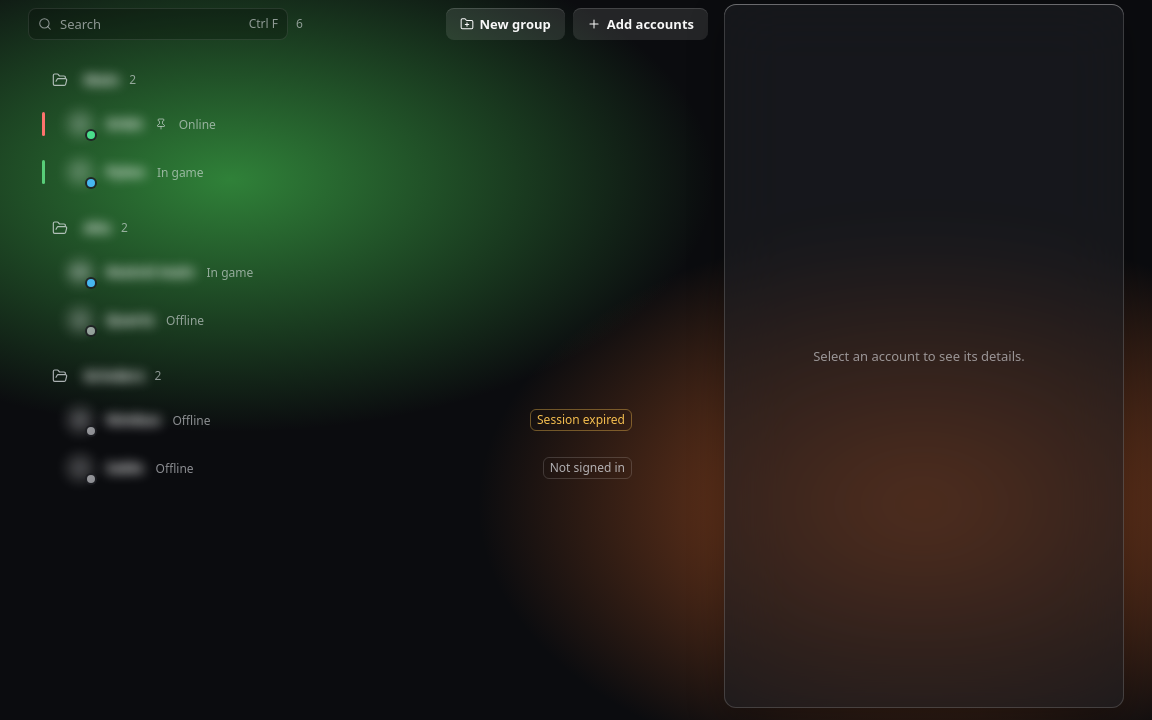
arrows select, Delete removes with an undo toast, Undo restores
The width and height of the screenshot is (1152, 720).
Press Arrowdown
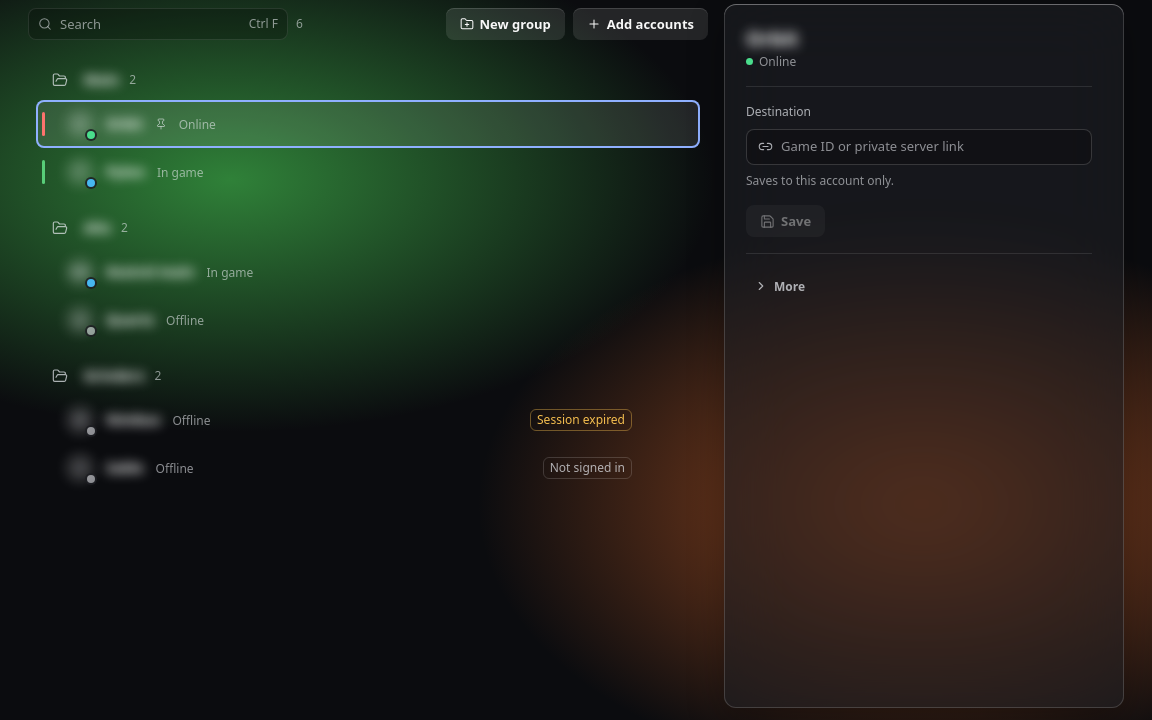
Expected: the text "Orbit" is selected, [36,100,700,148]
Press Arrowdown
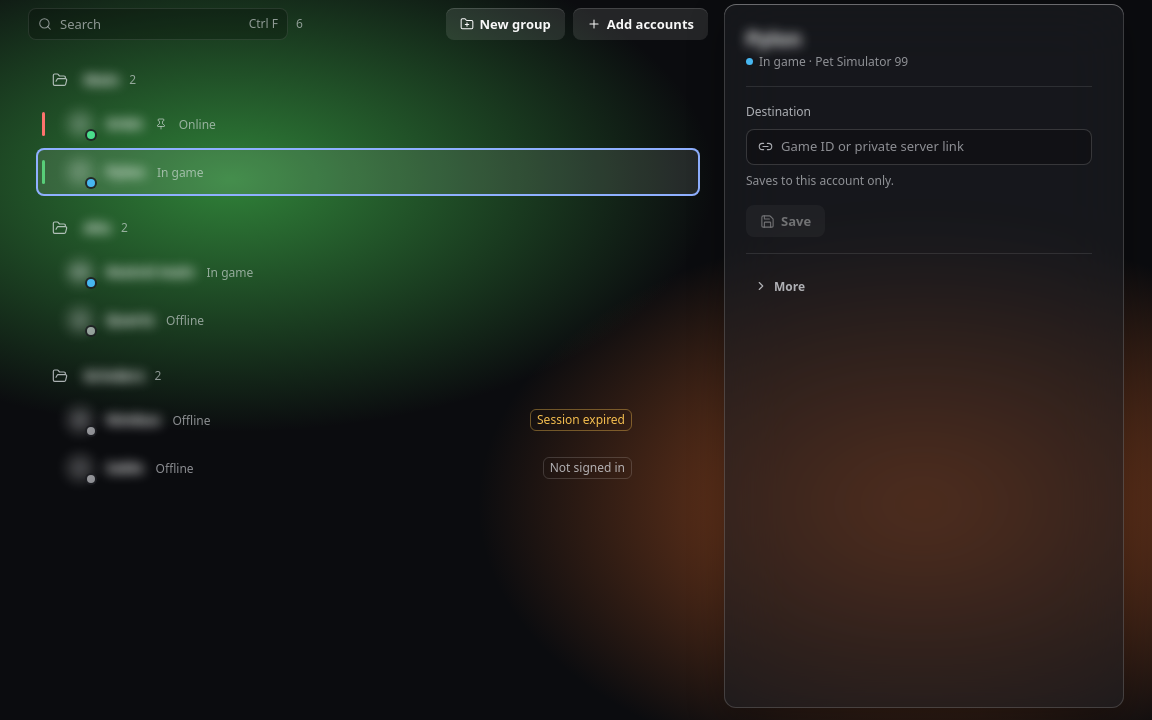
Expected: the text "Pylon" is selected, [36,148,700,196]
Press Delete
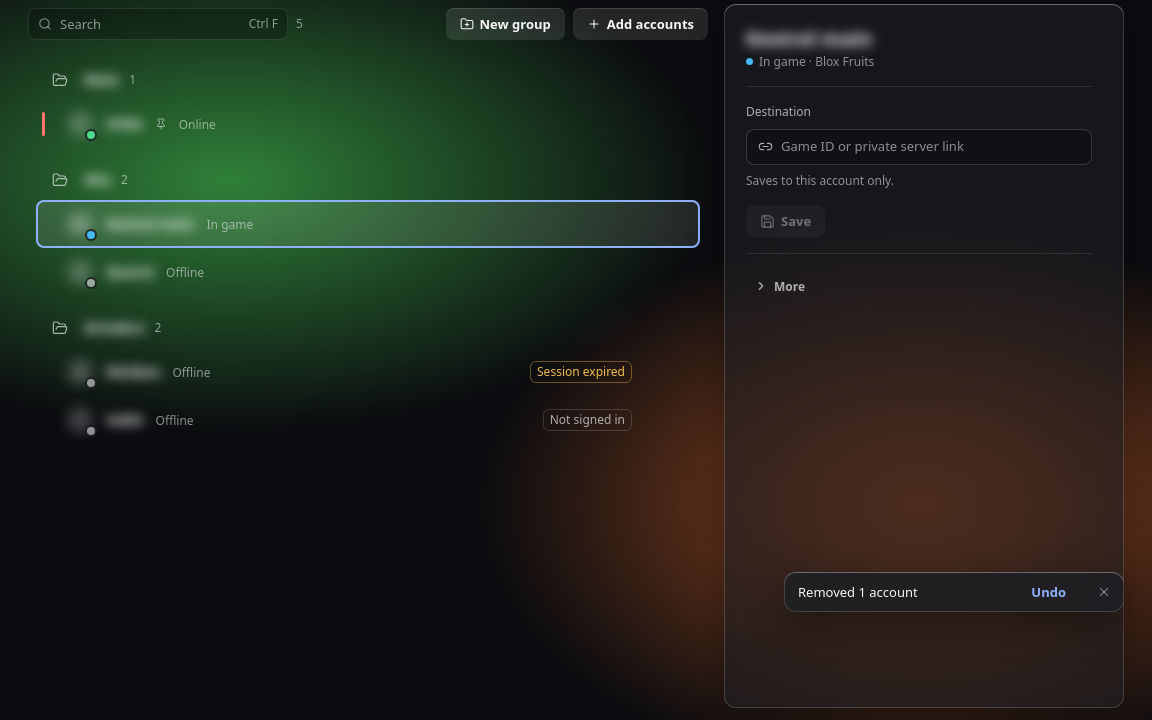
Expected: the text "Pylon" is gone
Expected: the text "Removed 1 account" is shown, [798,583,918,601]
Click the button "Undo".
click(1049, 592)  # box [1019,578,1078,606]
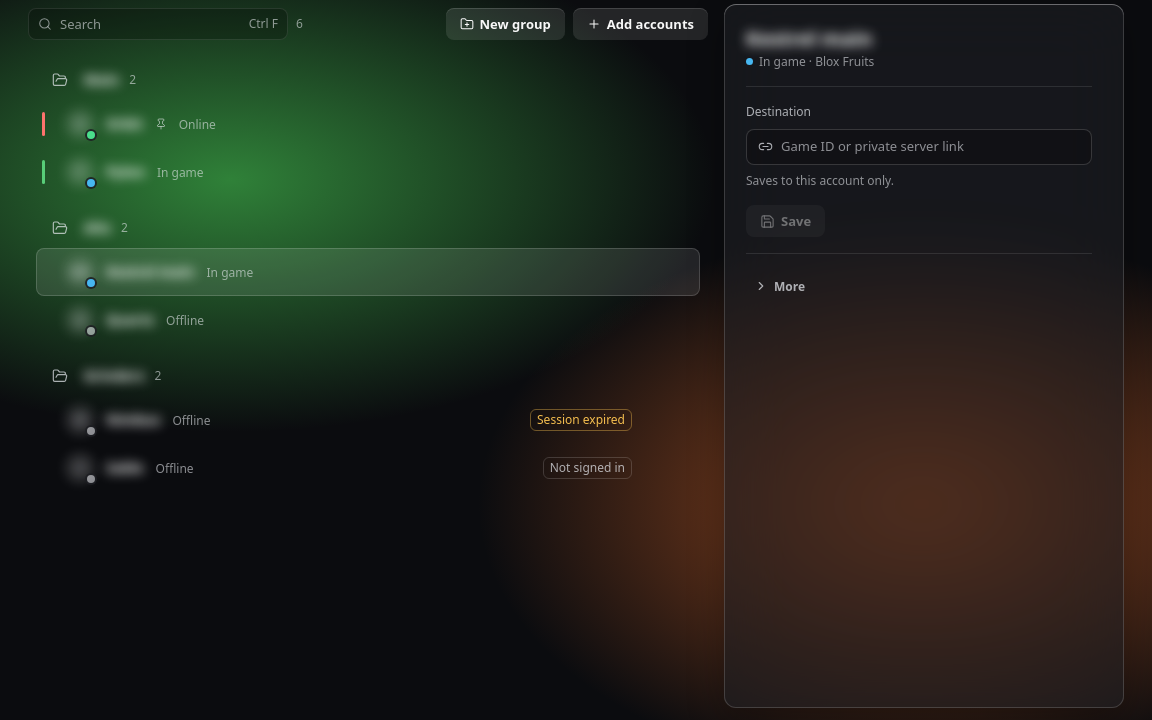
Expected: the text "Pylon" is shown, [106,162,145,182]
